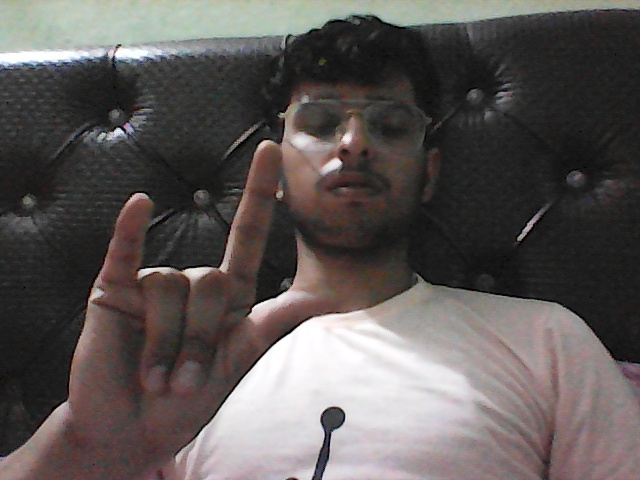iloveyou: (47, 144, 332, 472)
